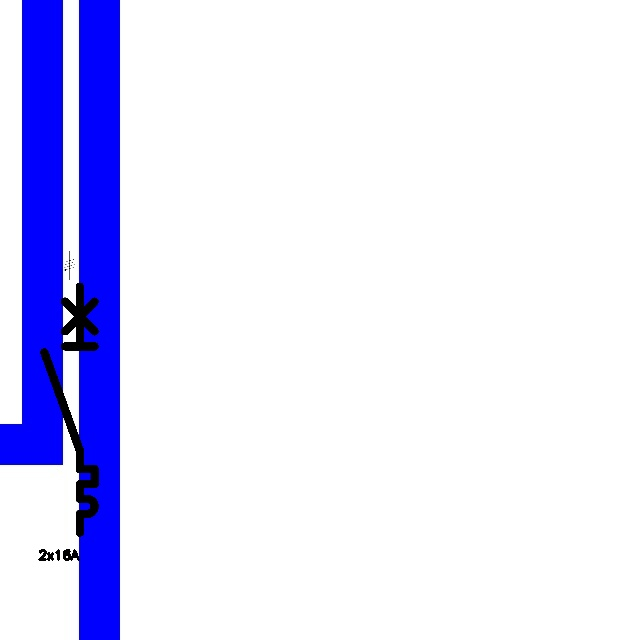interruptor_termomagnetico: (38, 280, 101, 538)
